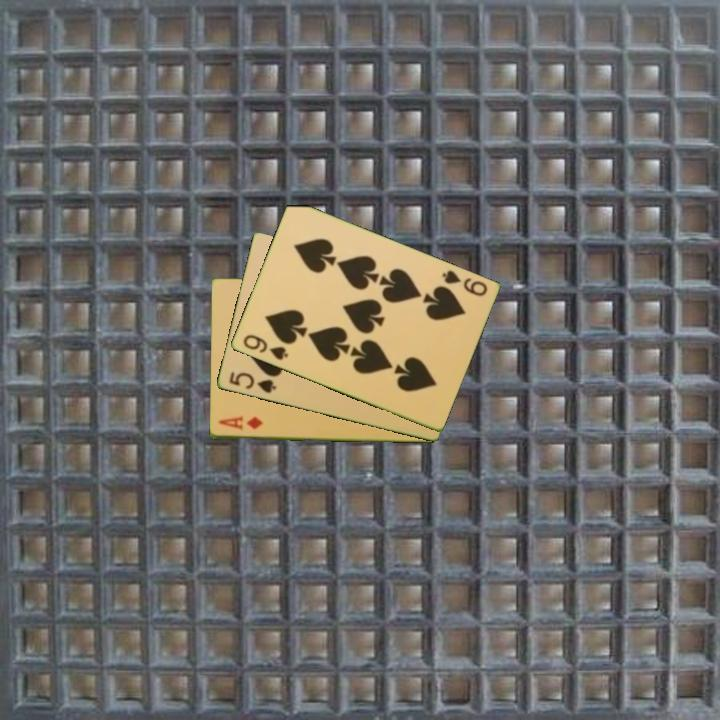5s: (225, 369, 279, 396)
9s: (438, 266, 490, 299), (239, 331, 291, 363)
Ad: (215, 413, 265, 434)
